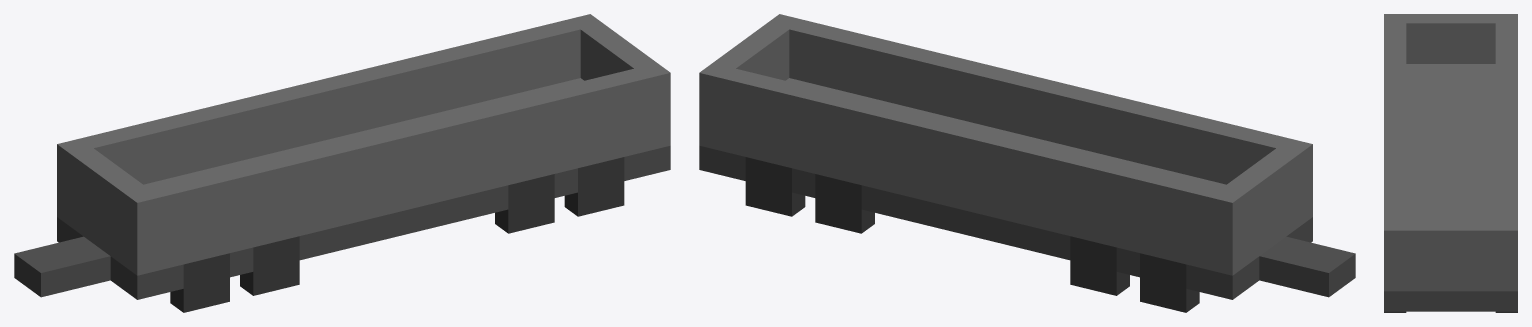
Rendered from train-trailer-v8-grey.gltf.
The picture shows the model from 3 angles, left to right: view 1: azimuth 30°, elevation 25°; view 2: azimuth 150°, elevation 25°; view 3: azimuth 270°, elevation 25°; orthographic projection. The views are drawn at different scales.
Visible parts, largest first — view 1: model, wheels; view 2: model, wheels; view 3: model.
Boxes of the visible parts, <box> form: model: <box>14,14,670,299</box>; wheels: <box>170,157,624,312</box>; model: <box>699,14,1355,299</box>; wheels: <box>745,157,1199,312</box>; model: <box>1384,14,1517,311</box>.
Size of the model in its own units: 2.6 by 0.5 by 0.6.
Materials: 2 (2 with a texture image).
